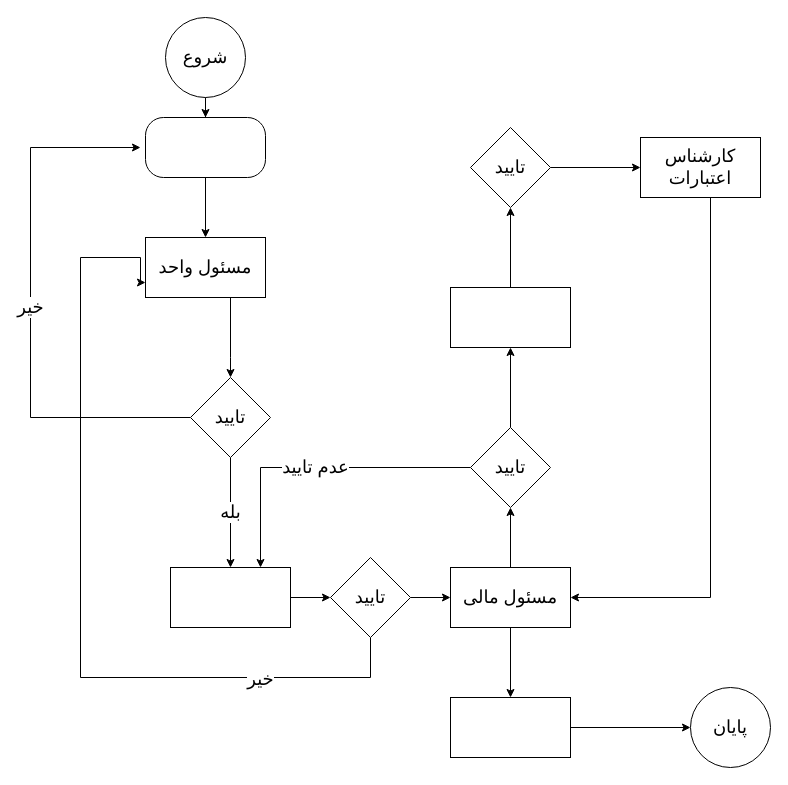
Image size: 788x785. Some labels were removed from this diagram. Each missing label, with the centre of its shape:
درخواست کننده: the point at 205,147
مدیریت: the point at 510,727
مسئول کارپردازی: the point at 510,317
معاونت اداری و مالی: the point at 230,597
